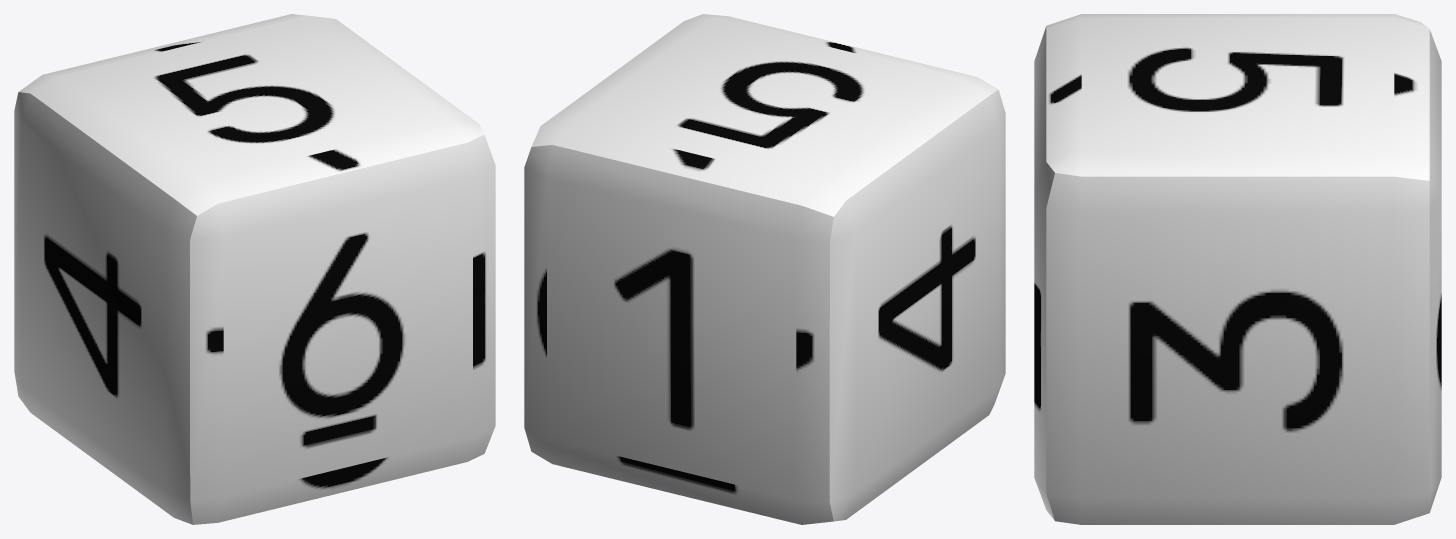
File: Dado6_Col.FBX
3 views of the same model, side by side, from view 1: azimuth 30°, elevation 25°; view 2: azimuth 150°, elevation 25°; view 3: azimuth 270°, elevation 25° (orthographic). The views are drawn at different scales.
Parts seen in each view (by area): view 1: Dado6_Col; view 2: Dado6_Col; view 3: Dado6_Col.
Part boxes in pixels (x1,y1,x2,y2): Dado6_Col: (14,14,495,524); Dado6_Col: (524,14,1005,524); Dado6_Col: (1034,14,1441,524).
Bounding box in the file's own units: 197 × 196 × 196.
